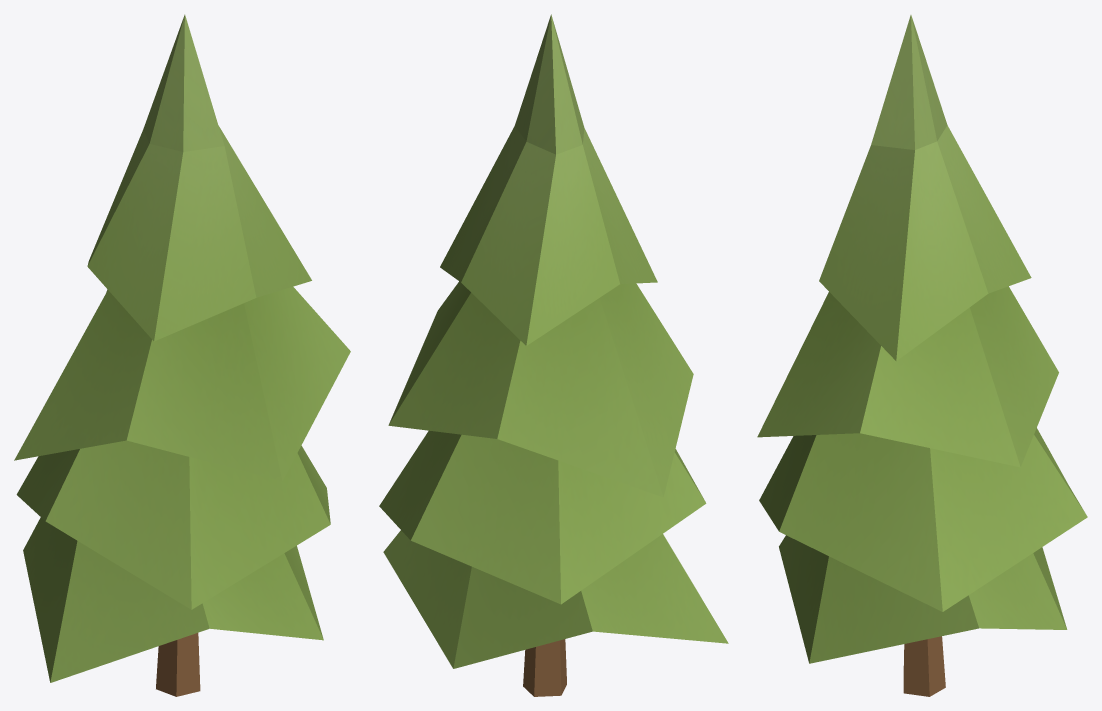
Rendered from Pine_Tree_OneSided_m_08.fbx.
3 renders of one model, left to right at view 1: azimuth 30°, elevation 25°; view 2: azimuth 150°, elevation 25°; view 3: azimuth 270°, elevation 25°, orthographic.
Parts seen in each view (by area): view 1: Pine_Tree_OneSided_m_08; view 2: Pine_Tree_OneSided_m_08; view 3: Pine_Tree_OneSided_m_08.
Part boxes in pixels (x1,y1,x2,y2): Pine_Tree_OneSided_m_08: (14,14,350,696); Pine_Tree_OneSided_m_08: (379,14,728,696); Pine_Tree_OneSided_m_08: (757,15,1087,696).
Bounding box in the file's own units: 285 × 585 × 260.
